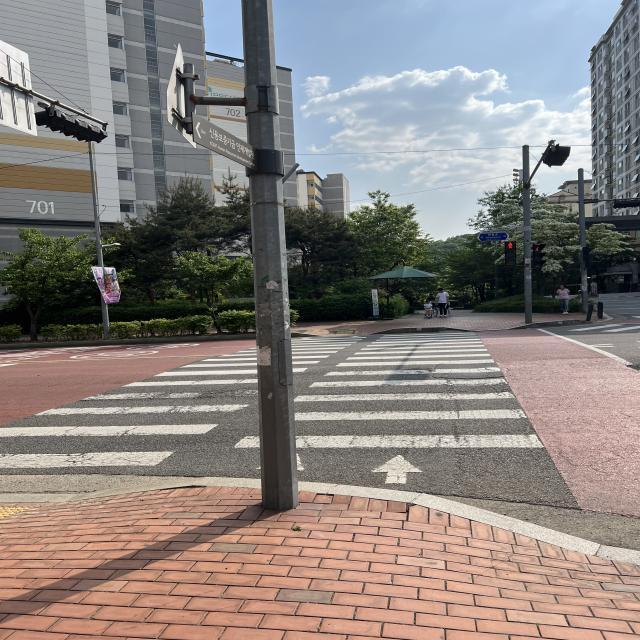crosswalk: (0, 314, 577, 512)
red-crossing: (502, 232, 516, 260)
